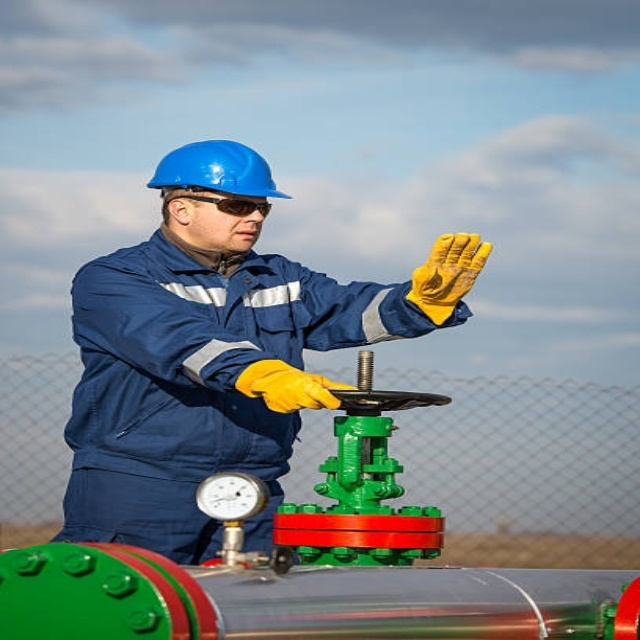Gafas: (167, 193, 272, 218)
Guantes: (404, 232, 488, 324), (235, 359, 357, 413)
Sin_mascara: (220, 227, 262, 249)
